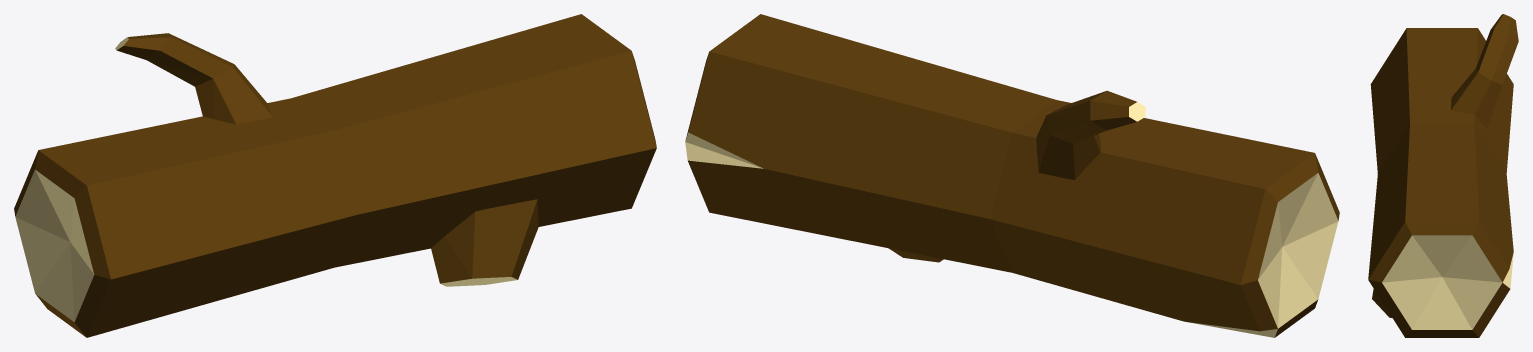
Rendered from LogD.fbx.
3 renders of one model, left to right at view 1: azimuth 30°, elevation 25°; view 2: azimuth 150°, elevation 25°; view 3: azimuth 270°, elevation 25°, orthographic. The views are drawn at different scales.
Parts seen in each view (by area): view 1: SketchUp.014; view 2: SketchUp.014; view 3: SketchUp.014.
Part boxes in pixels (x1,y1,x2,y2): SketchUp.014: (14,14,656,337); SketchUp.014: (685,14,1339,337); SketchUp.014: (1368,14,1518,337).
Size of the model in its own units: 360 by 166 by 114.
